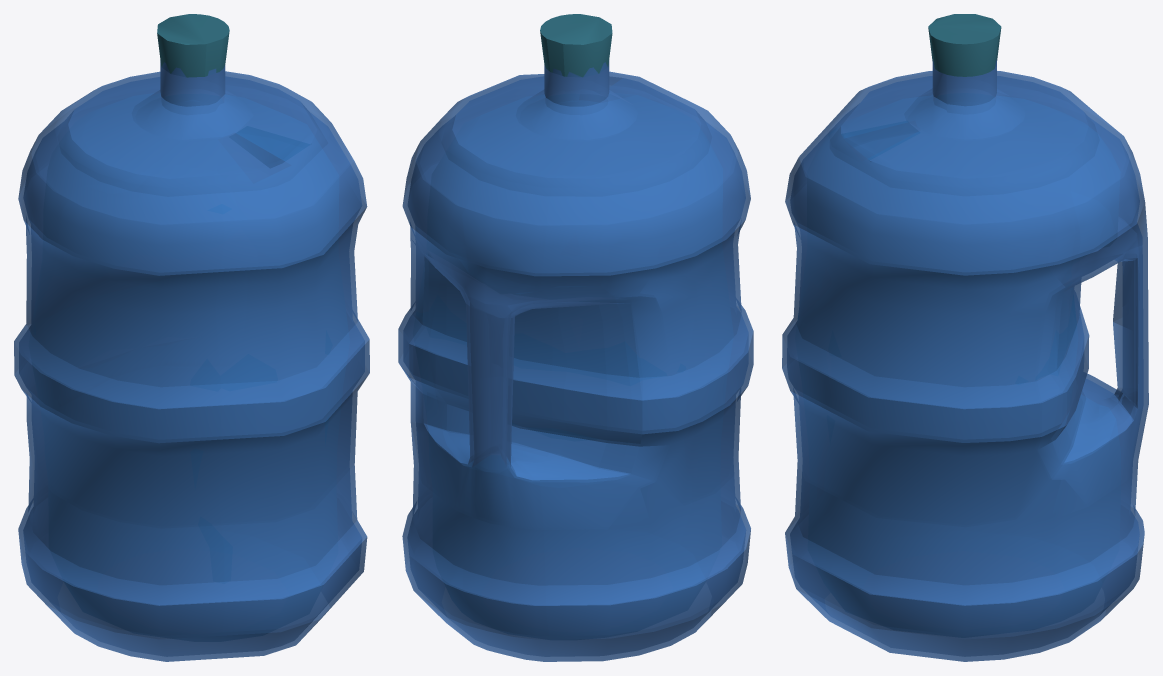
Rendered from tin.fbx.
The picture shows the model from 3 angles, left to right: view 1: azimuth 30°, elevation 25°; view 2: azimuth 150°, elevation 25°; view 3: azimuth 270°, elevation 25°; orthographic projection.
Visible parts, largest first — view 1: tin1; view 2: tin1; view 3: tin1.
Part boxes in pixels (x1,y1,x2,y2): tin1: (14,14,369,661); tin1: (398,14,753,661); tin1: (782,14,1148,661).
Size of the model in its own units: 34.47 by 61.99 by 35.83.
3 materials, 1 textured.
